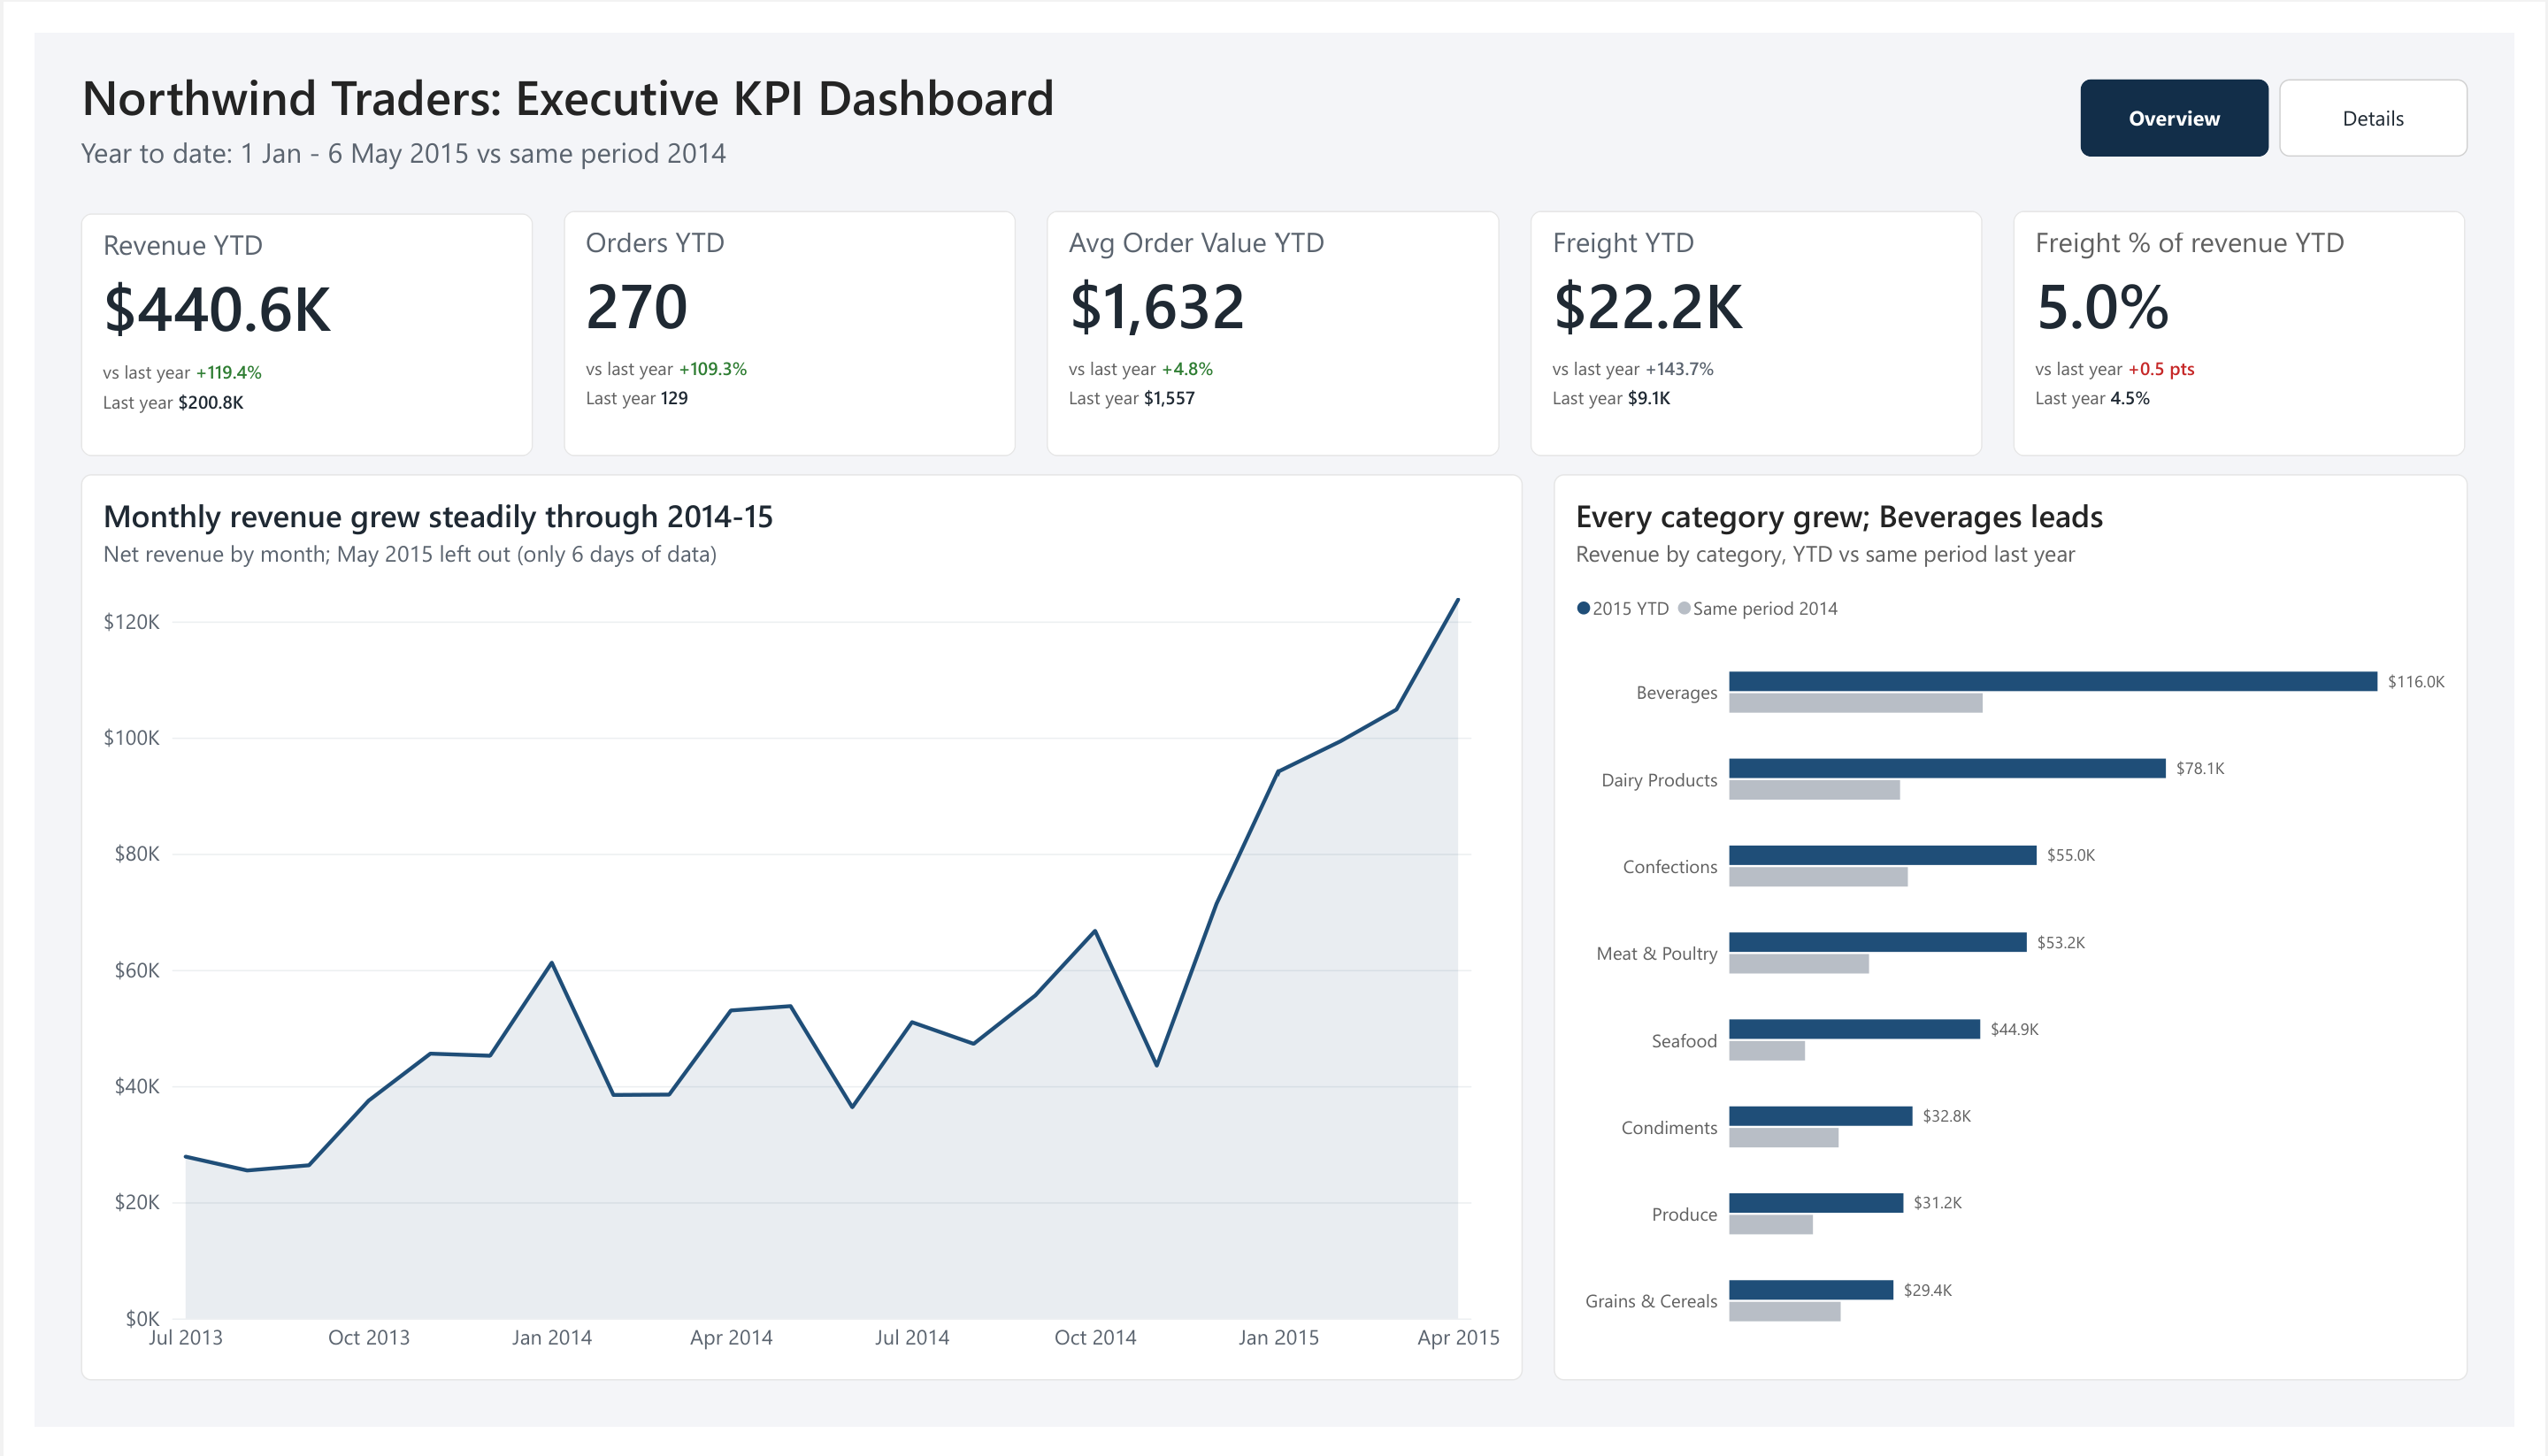

Layout of this report page (visuals, bound fields, positions):
{"tool":"powerbi","page":{"name":"Overview","canvas":[1920,1080],"ordinal":0},"visuals":[{"type":"cardVisual","fields":{"Data":["_Measures.Revenue YTD"]},"box":[36,138,350,190],"z":0},{"type":"lineChart","title":"Monthly revenue more than doubled from 2013 to 2015","fields":{"Category":["Date.Month Start"],"Y":["_Measures.Revenue"]},"box":[36,342,1116,702],"z":1000},{"type":"clusteredBarChart","title":"Every category grew; Beverages leads","fields":{"Category":["categories.categoryName"],"Y":["_Measures.Revenue YTD","_Measures.Revenue PY YTD"]},"box":[1176,342,708,702],"z":2000},{"type":"textbox","title":"Title","box":[36,24,1350,54],"z":3000},{"type":"textbox","box":[36,78,1350,36],"z":4000},{"type":"pageNavigator","box":[1584,36,300,60],"z":5000},{"type":"cardVisual","fields":{"Data":["_Measures.Freight % YTD"]},"box":[1532,138,350,190],"z":6000},{"type":"cardVisual","fields":{"Data":["_Measures.Freight YTD"]},"box":[1158,138,350,190],"z":7000},{"type":"cardVisual","fields":{"Data":["_Measures.AOV YTD"]},"box":[784,138,350,190],"z":8000},{"type":"cardVisual","fields":{"Data":["_Measures.Orders YTD"]},"box":[410,138,350,190],"z":9000}]}

Visuals, with their boxes in screenshot pixels (x1, y1, x2, y2), scaled from the page's 1920x1080 canvas onto the 2548x1456 screenshot:
cardVisual - _Measures.Revenue YTD: left=48, top=186, right=512, bottom=442
"Monthly revenue more than doubled from 2013 to 2015" lineChart: left=48, top=461, right=1529, bottom=1407
"Every category grew; Beverages leads" clusteredBarChart: left=1561, top=461, right=2500, bottom=1407
"Title" textbox: left=48, top=33, right=1839, bottom=105
textbox: left=48, top=105, right=1839, bottom=154
pageNavigator: left=2102, top=49, right=2500, bottom=129
cardVisual - _Measures.Freight % YTD: left=2033, top=186, right=2498, bottom=442
cardVisual - _Measures.Freight YTD: left=1537, top=186, right=2001, bottom=442
cardVisual - _Measures.AOV YTD: left=1040, top=186, right=1505, bottom=442
cardVisual - _Measures.Orders YTD: left=544, top=186, right=1009, bottom=442
